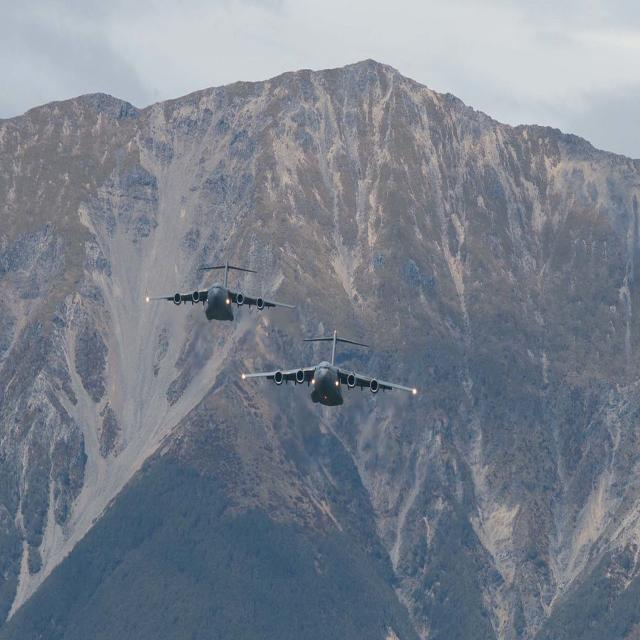MIL_Plane: (261, 291, 397, 368), (146, 260, 296, 321)
